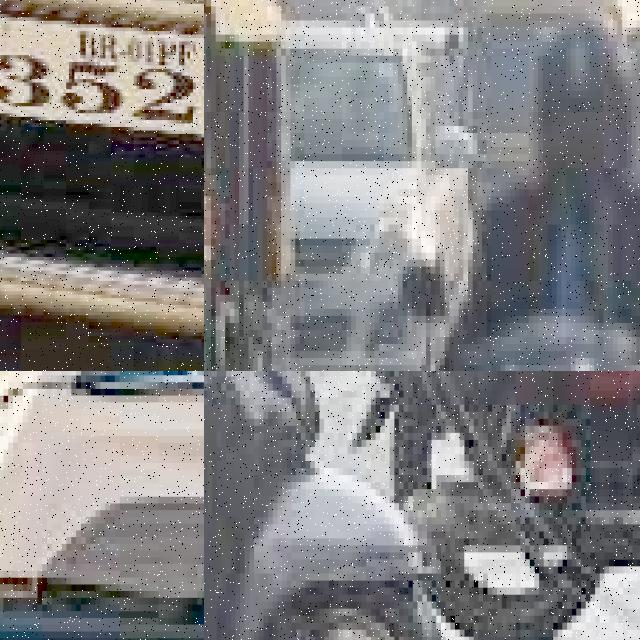bike: (204, 371, 478, 640), (361, 371, 640, 615), (0, 371, 204, 640)
car: (0, 0, 204, 371)
